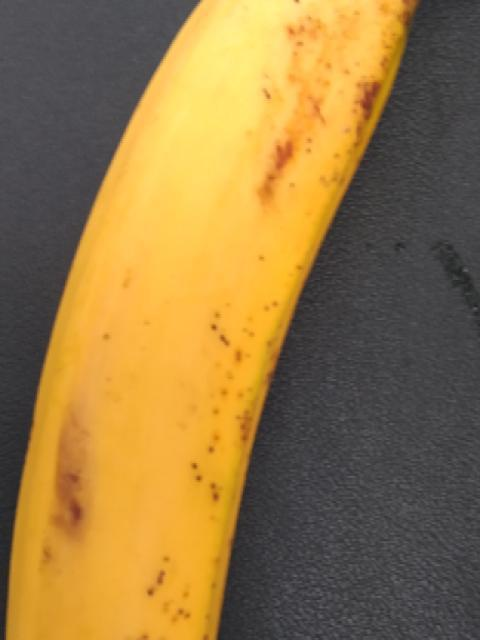ripe: (0, 4, 424, 639)
